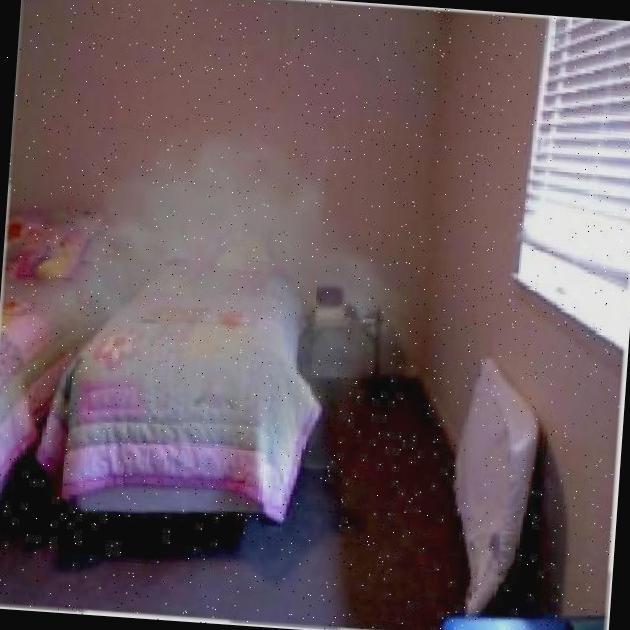smoke: (88, 124, 457, 455)
